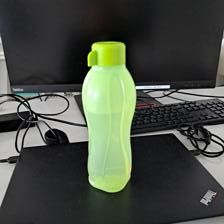bottle: (78, 38, 137, 195)
